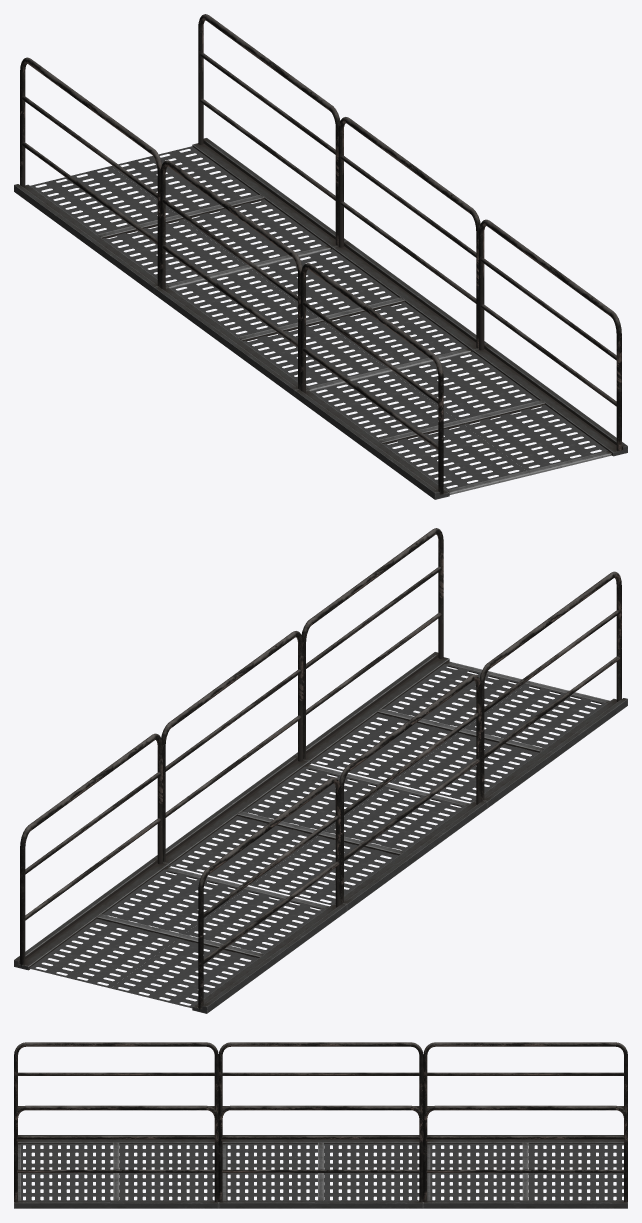
Rendered from metal-bridge.glb.
3 renders of one model, top to bottom at view 1: azimuth 30°, elevation 25°; view 2: azimuth 150°, elevation 25°; view 3: azimuth 270°, elevation 25°, orthographic. The views are drawn at different scales.
Visible parts, largest first — view 1: MetalBridge; view 2: MetalBridge; view 3: MetalBridge.
Boxes of the visible parts, x1=… form: MetalBridge: x1=14, y1=14, x2=627, y2=499; MetalBridge: x1=14, y1=528, x2=627, y2=1013; MetalBridge: x1=14, y1=1042, x2=627, y2=1208.
Size of the model in its own units: 1.64 by 1.13 by 6.2.
Materials: 1 (1 with a texture image).
